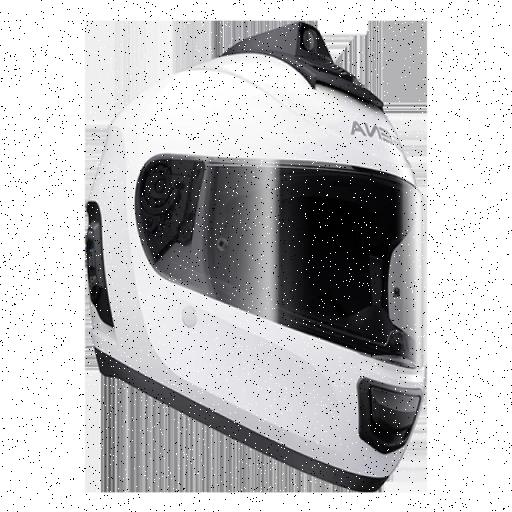Helmet: (87, 24, 424, 490)
